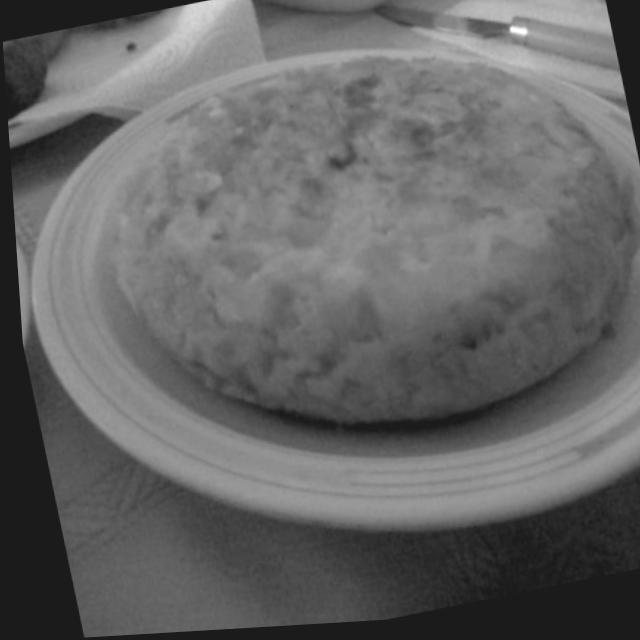面包点心: (6, 0, 640, 576)
